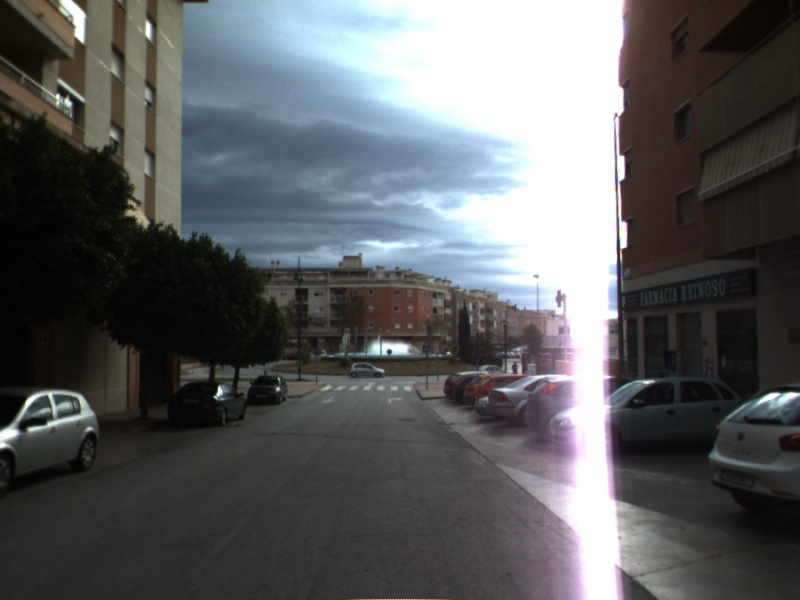RIGHT: (386, 395, 405, 405)
